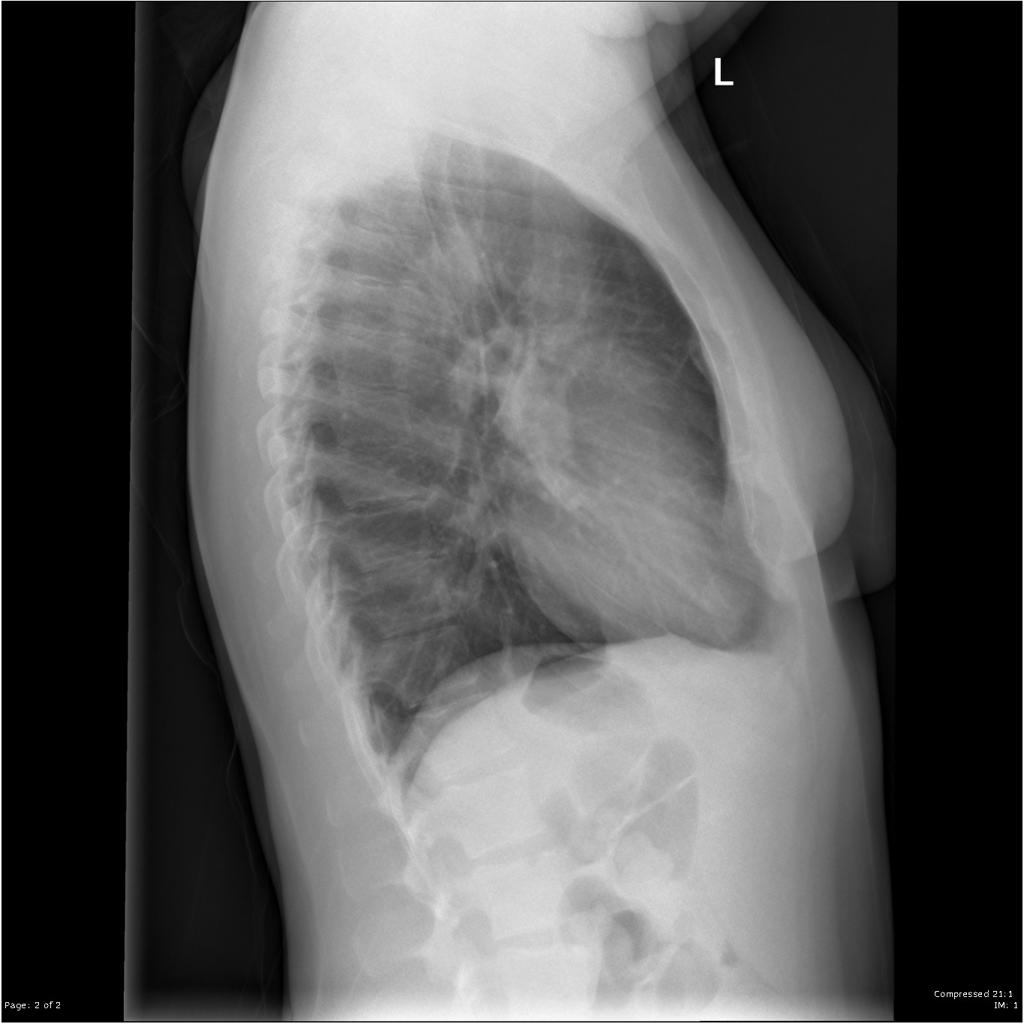cancer: (285, 172, 679, 651)
